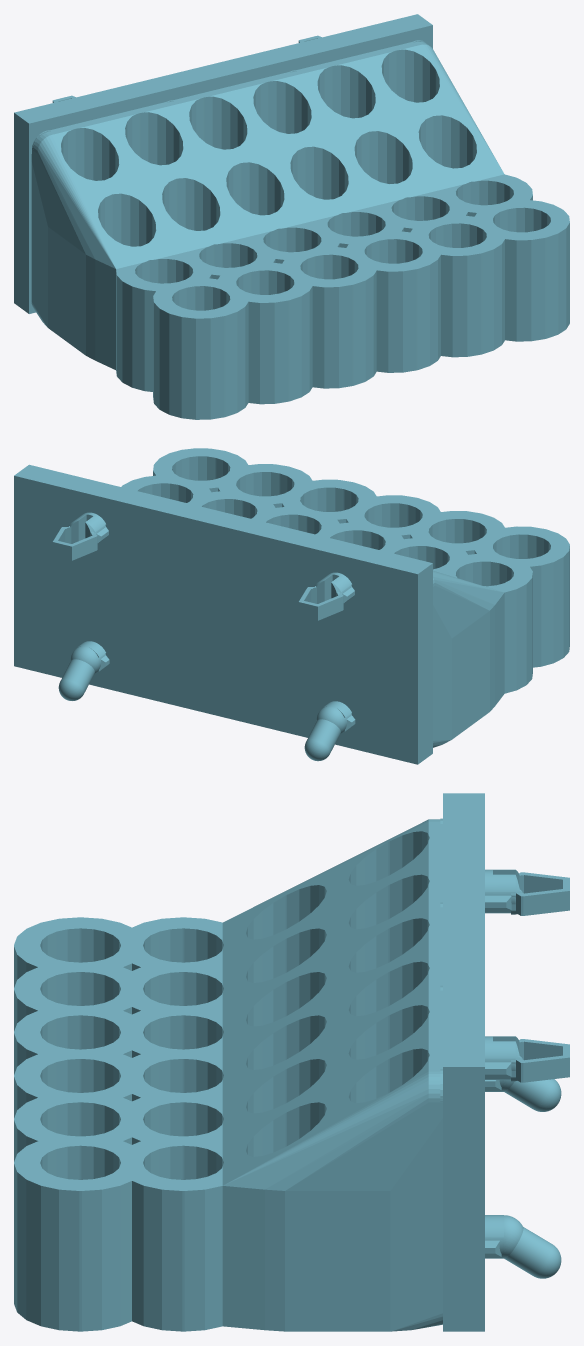
Rendered from part-p09__current-mounts-flat-top-v2__fit-pf02c9-hoop5__print.glb.
The picture shows the model from 3 angles, top to bottom: view 1: azimuth 30°, elevation 25°; view 2: azimuth 150°, elevation 25°; view 3: azimuth 270°, elevation 25°; orthographic projection. The views are drawn at different scales.
Parts seen in each view (by area): view 1: print.stl; view 2: print.stl; view 3: print.stl.
Boxes of the visible parts, x1,y1,x2,y2 form: print.stl: (14, 14, 569, 419); print.stl: (14, 448, 569, 764); print.stl: (14, 793, 569, 1331).
Bounding box in the file's own units: 0.0834 × 0.0376 × 0.0716.
